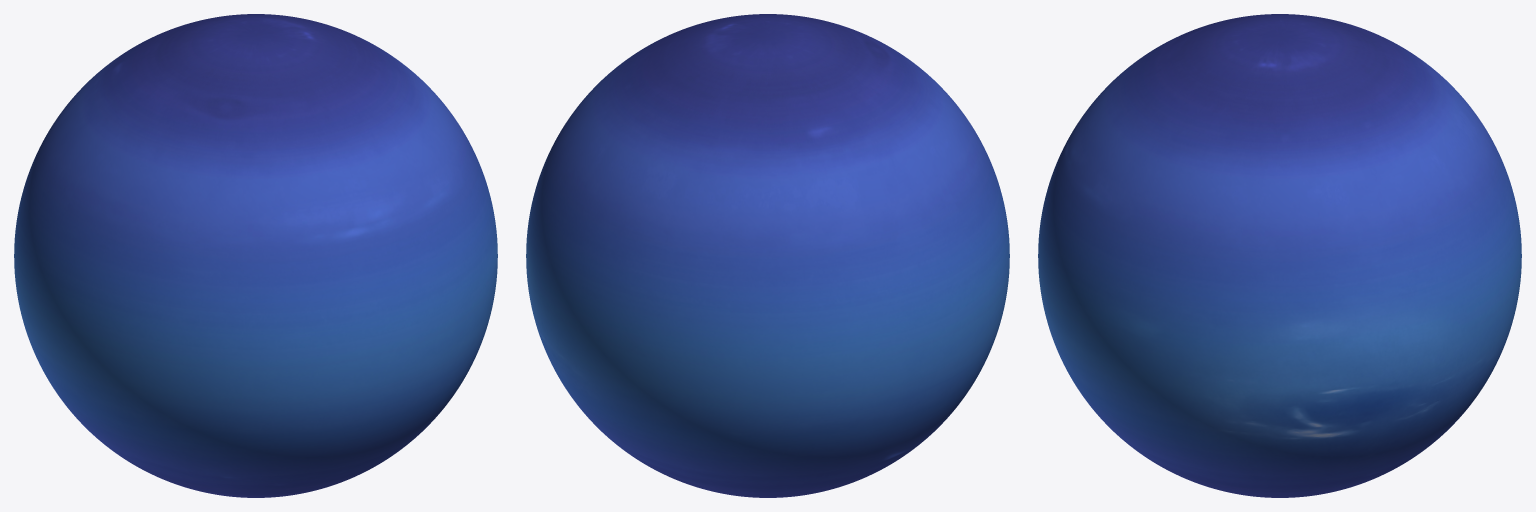
File: neptune.glb
3 views of the same model, side by side, from view 1: azimuth 30°, elevation 25°; view 2: azimuth 150°, elevation 25°; view 3: azimuth 270°, elevation 25° (orthographic).
Visible parts, largest first — view 1: Neptune; view 2: Neptune; view 3: Neptune.
Part boxes in pixels (box(x1,y1,x2,y2)): Neptune: box(14, 14, 497, 497); Neptune: box(526, 14, 1009, 497); Neptune: box(1038, 14, 1521, 497).
Bounding box in the file's own units: 3 × 3 × 3.
1 material, 1 textured.
